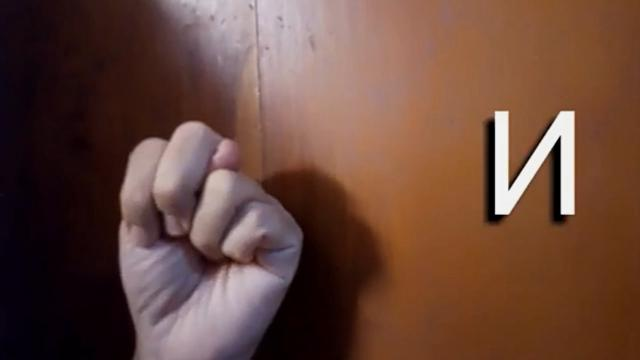N: (115, 118, 303, 350)
